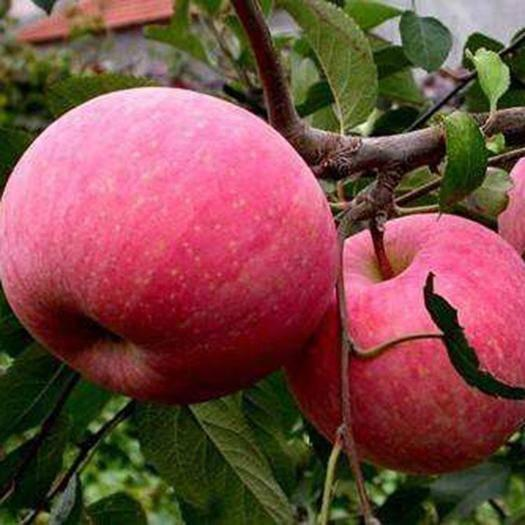apple: (1, 82, 338, 409), (281, 211, 525, 477)
